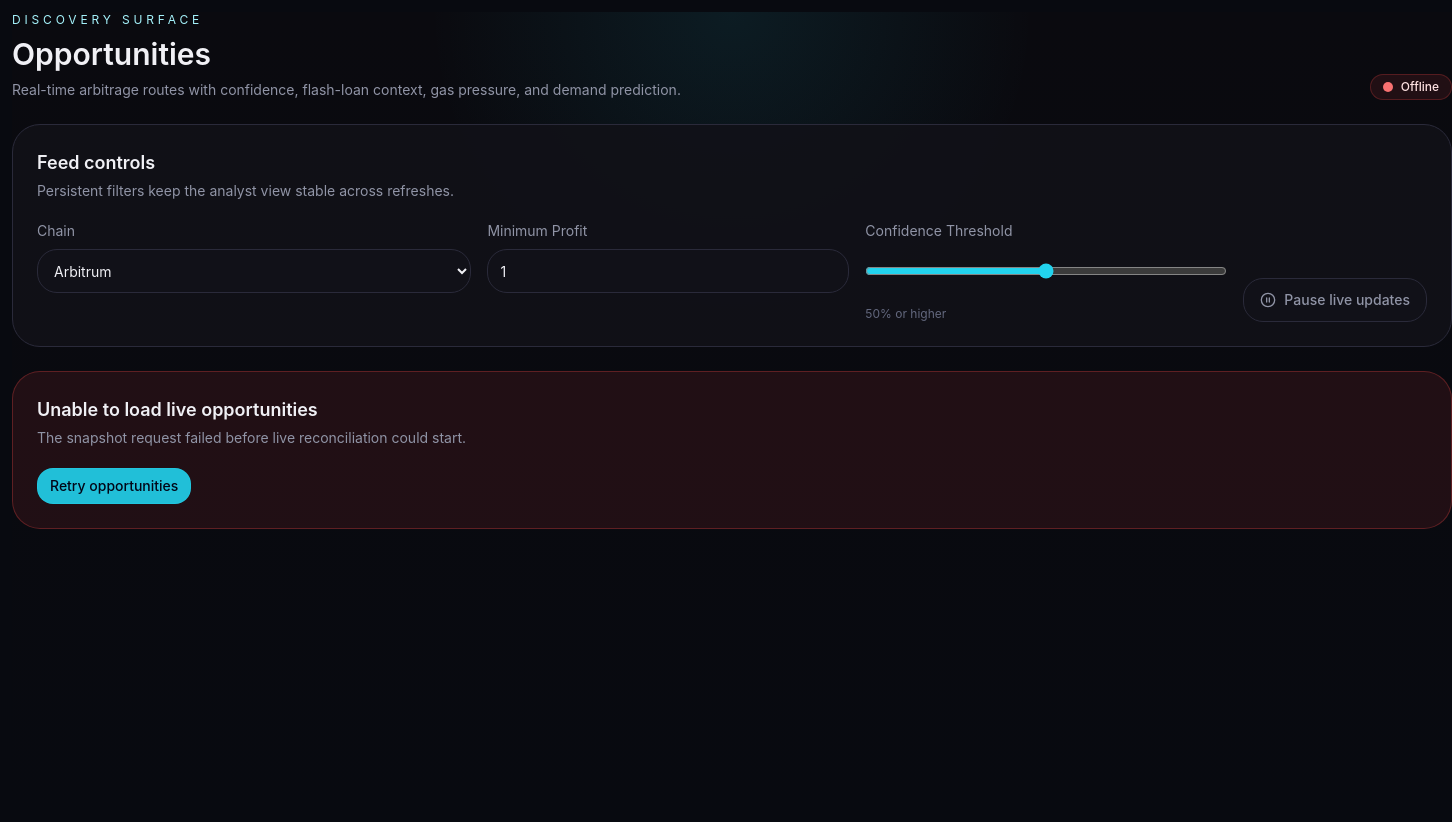
Test case: OpportunitiesPage › uses resumable reconnects with jittered backoff and shows an explicit error state
Check: the heading "Unable to load live opportunities" is shown, box x1=37 y1=399 x2=318 y2=420
Check: the text "live feed offline" is not shown
Click the button "Retry opportunities".
click(114, 486)  # box x1=37 y1=468 x2=191 y2=504
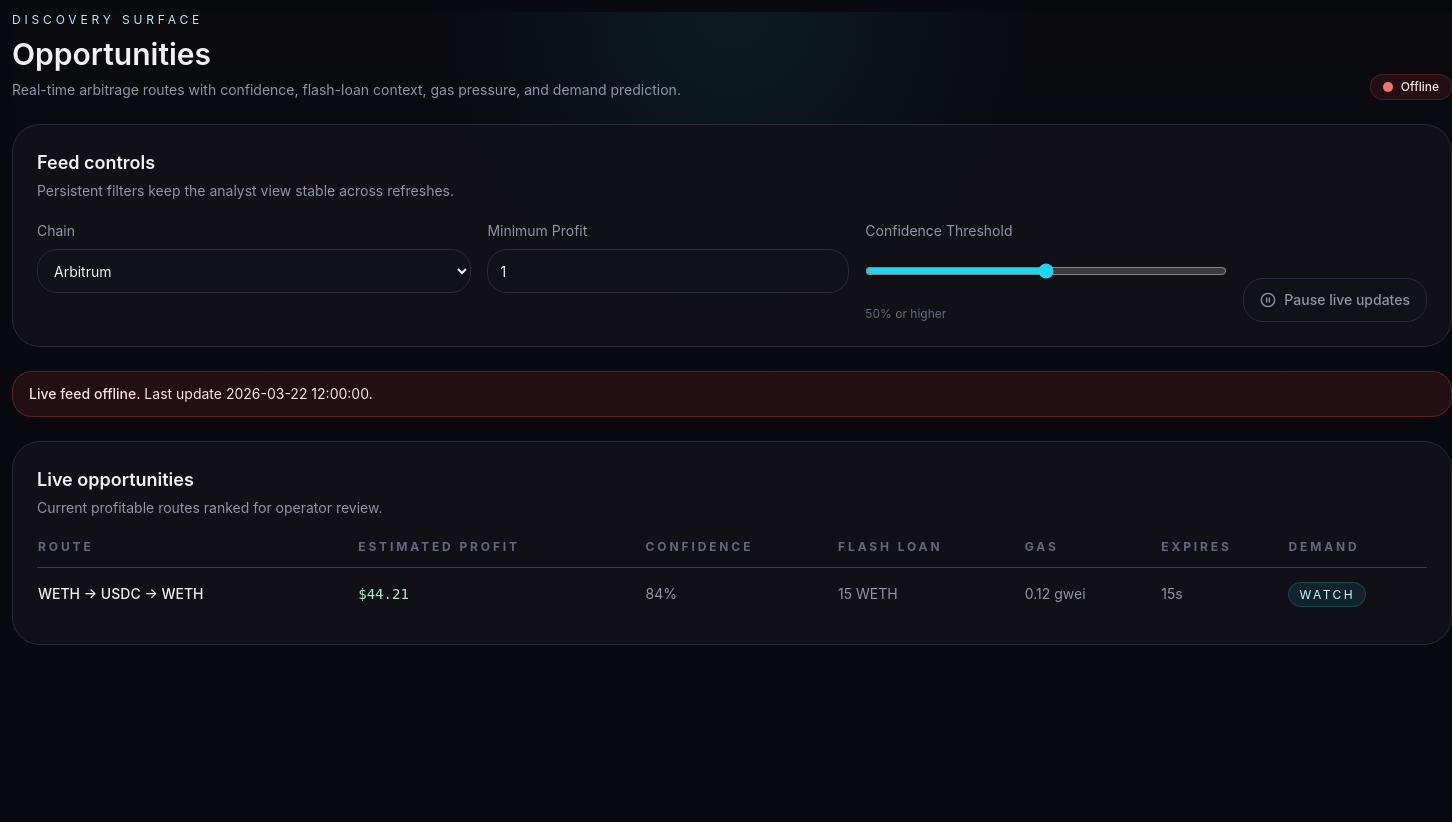
Check: the text "WETH -> USDC -> WETH" is shown 2 times
